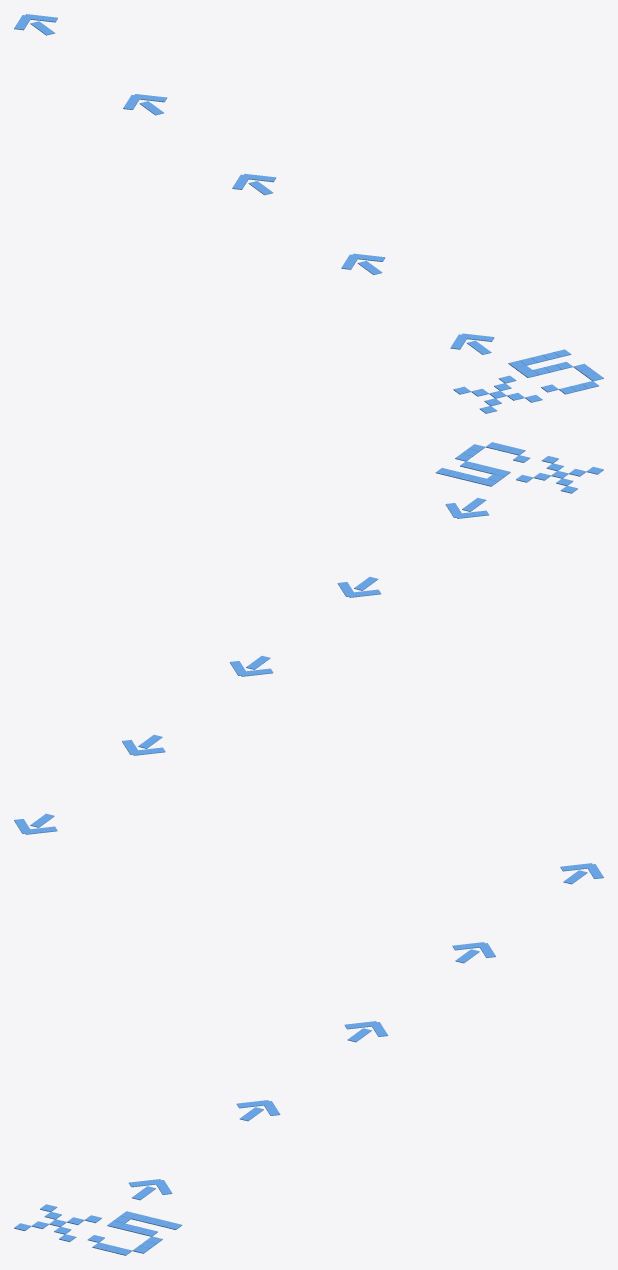
The model's file is cielo-alto_Marcas.glb.
3 views of the same model, one above another, from view 1: azimuth 30°, elevation 25°; view 2: azimuth 150°, elevation 25°; view 3: azimuth 330°, elevation 25° (orthographic).
Visible parts, largest first — view 1: Mapa_cielo_alto_Marcas; view 2: Mapa_cielo_alto_Marcas; view 3: Mapa_cielo_alto_Marcas.
Boxes of the visible parts, x1,y1,x2,y2 form: Mapa_cielo_alto_Marcas: (14,14,603,413); Mapa_cielo_alto_Marcas: (14,442,603,834); Mapa_cielo_alto_Marcas: (14,863,603,1255).
Size of the model in its own units: 39.53 by 0.24 by 288.
Materials: 1 (1 with a texture image).
